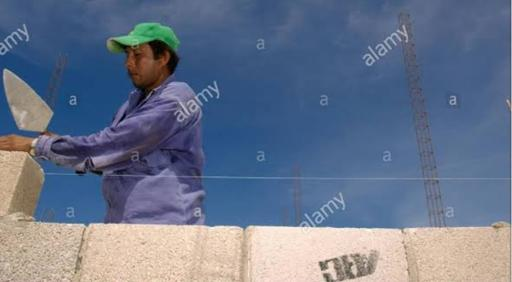unsafe person: (104, 20, 181, 85)
